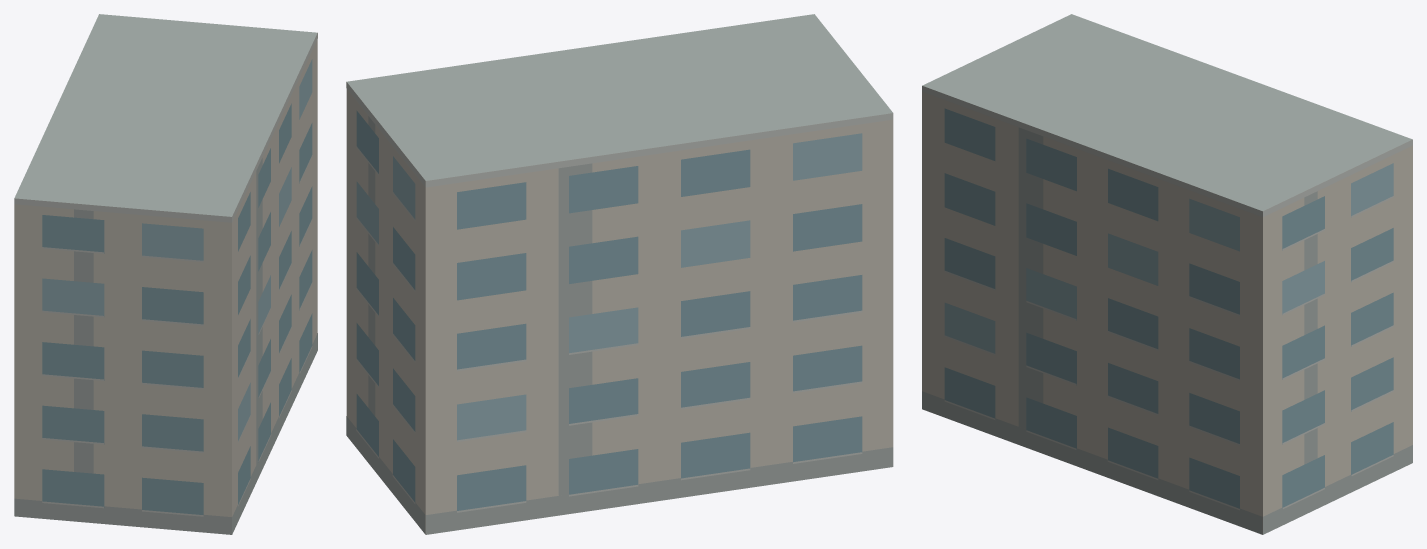
The model's file is survey-upis-32526048.glb.
3 views of the same model, side by side, from view 1: azimuth 30°, elevation 25°; view 2: azimuth 150°, elevation 25°; view 3: azimuth 270°, elevation 25° (orthographic). The views are drawn at different scales.
Parts seen in each view (by area): view 1: survey-upis-32526048.tmp; view 2: survey-upis-32526048.tmp; view 3: survey-upis-32526048.tmp.
Boxes of the visible parts, left/top/right/bottom form: survey-upis-32526048.tmp: left=14, top=14, right=317, bottom=534; survey-upis-32526048.tmp: left=346, top=14, right=893, bottom=534; survey-upis-32526048.tmp: left=922, top=14, right=1412, bottom=534.
Bounding box in the file's own units: 17.14 × 13.1 × 18.01.
